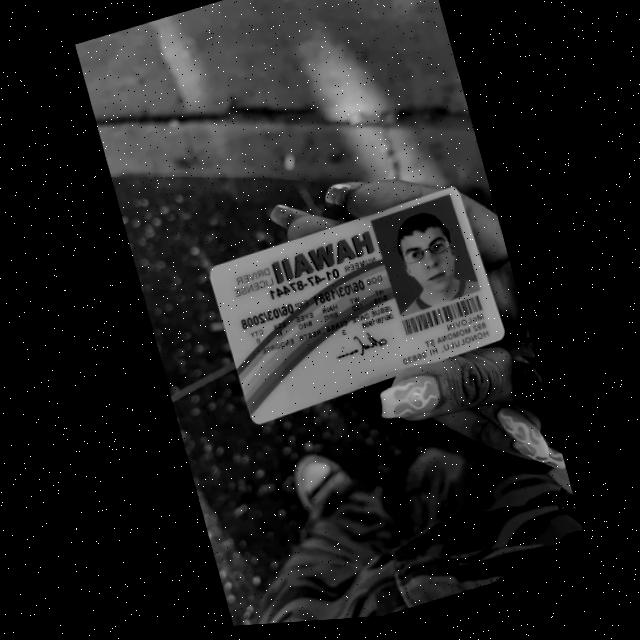card: (210, 188, 503, 423)
